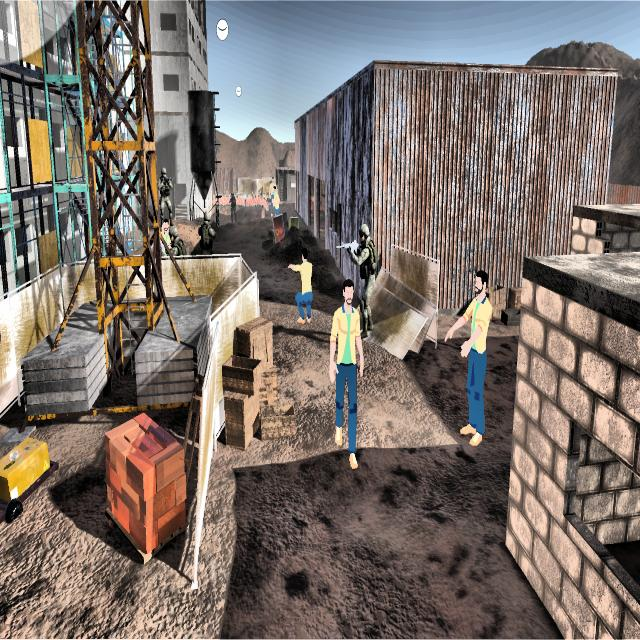bad: (344, 223, 379, 332), (194, 203, 217, 256), (157, 156, 175, 222), (169, 223, 190, 258), (227, 186, 240, 225)
good: (451, 266, 495, 451), (326, 279, 367, 471), (286, 248, 317, 326), (268, 174, 280, 221)
